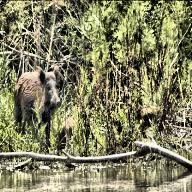boar: (8, 60, 89, 163)
